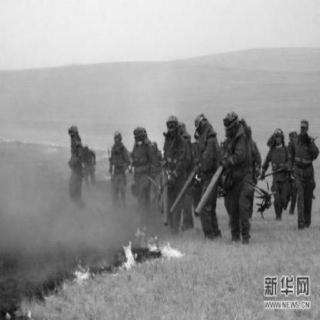Fire: (114, 221, 184, 273)
Smoke: (15, 171, 76, 238)
other: (109, 110, 318, 242), (61, 114, 103, 202)
